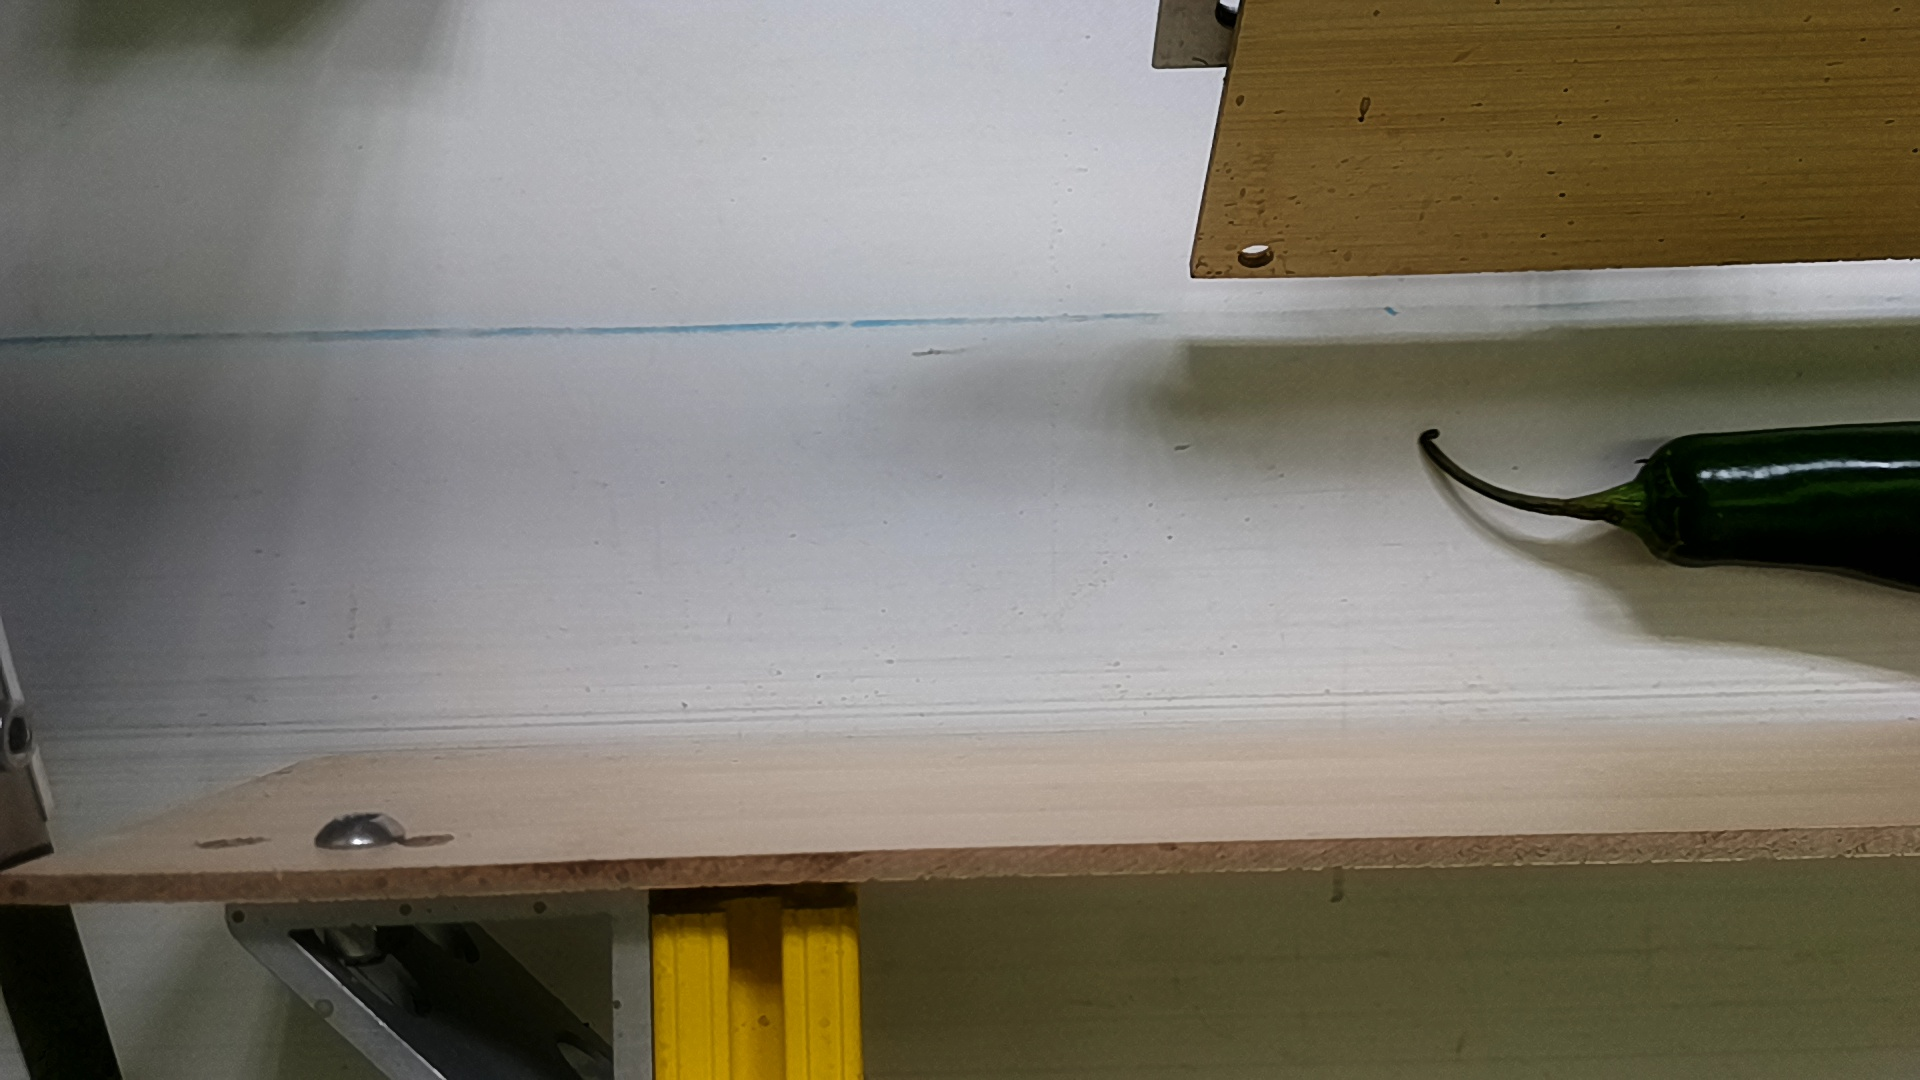Cut Point: (1621, 418, 1698, 582)
